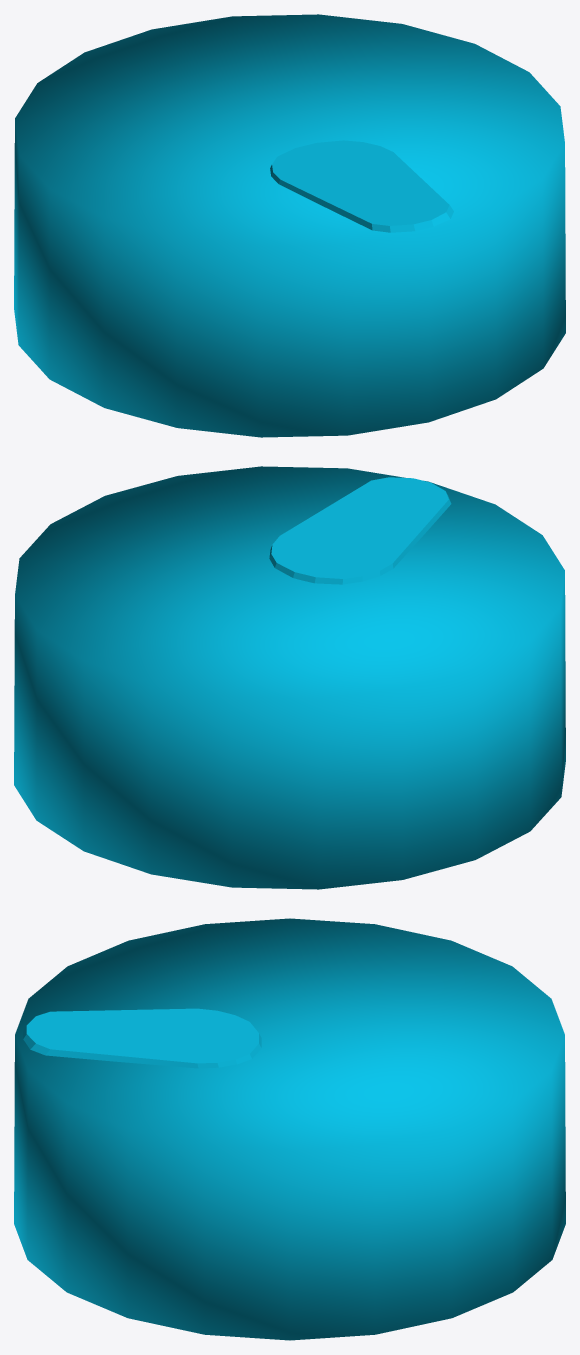
Rendered from Canned_Food_02_Lod0.fbx.
The picture shows the model from 3 angles, top to bottom: view 1: azimuth 30°, elevation 25°; view 2: azimuth 150°, elevation 25°; view 3: azimuth 270°, elevation 25°; orthographic projection.
Visible parts, largest first — view 1: Canned_Food_02_Lod0; view 2: Canned_Food_02_Lod0; view 3: Canned_Food_02_Lod0.
Part boxes in pixels (bbox=[...]): Canned_Food_02_Lod0: bbox=[14, 14, 565, 437]; Canned_Food_02_Lod0: bbox=[14, 466, 565, 889]; Canned_Food_02_Lod0: bbox=[14, 918, 565, 1340].
Size of the model in its own units: 11.62 by 4.52 by 11.62.
